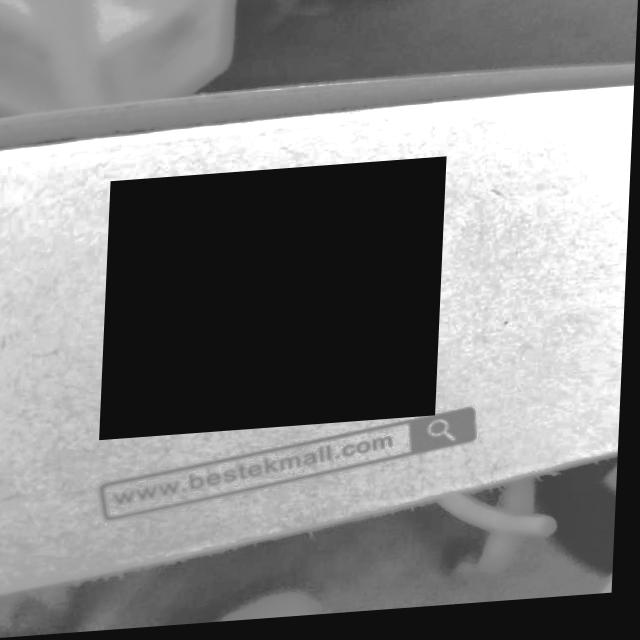qr_code: (103, 163, 448, 442)
